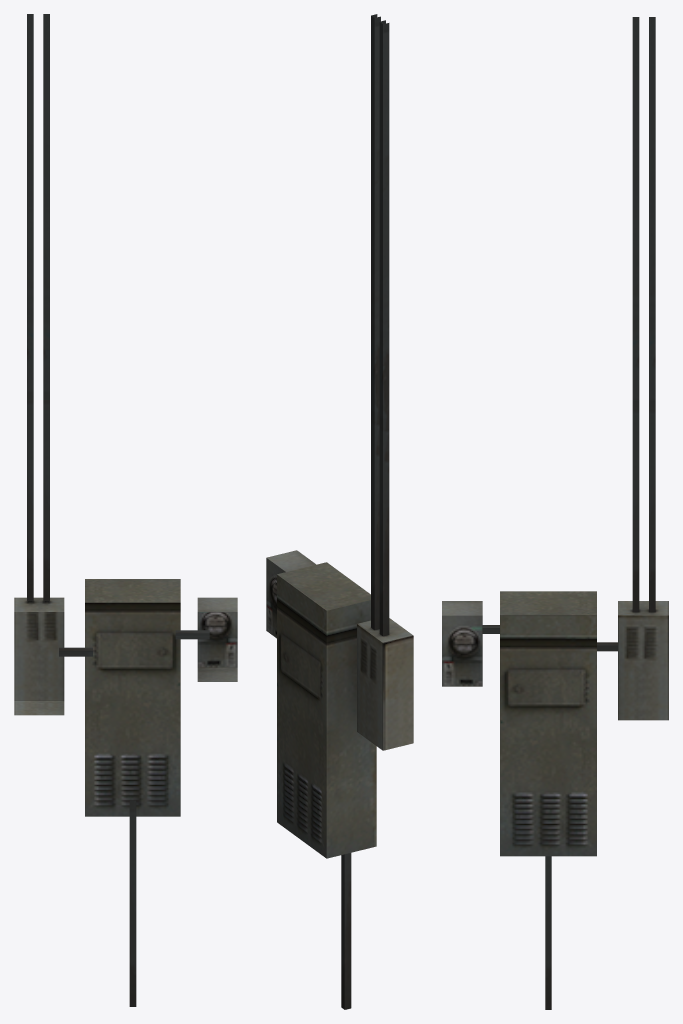
The model's file is Asset_Garage1_2.fbx.
3 views of the same model, side by side, from view 1: azimuth 90°, elevation 25°; view 2: azimuth 210°, elevation 25°; view 3: azimuth 270°, elevation 25° (orthographic). The views are drawn at different scales.
Visible parts, largest first — view 1: Asset_Garage1_2; view 2: Asset_Garage1_2; view 3: Asset_Garage1_2.
Part boxes in pixels (left/top/right/bottom): Asset_Garage1_2: left=14, top=14, right=237, bottom=1006; Asset_Garage1_2: left=266, top=14, right=413, bottom=1009; Asset_Garage1_2: left=442, top=17, right=668, bottom=1009.
Bounding box in the file's own units: 18.03 × 355 × 72.96.
